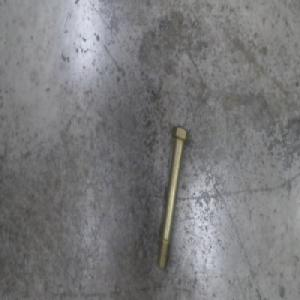Bolt: (156, 124, 189, 270)
